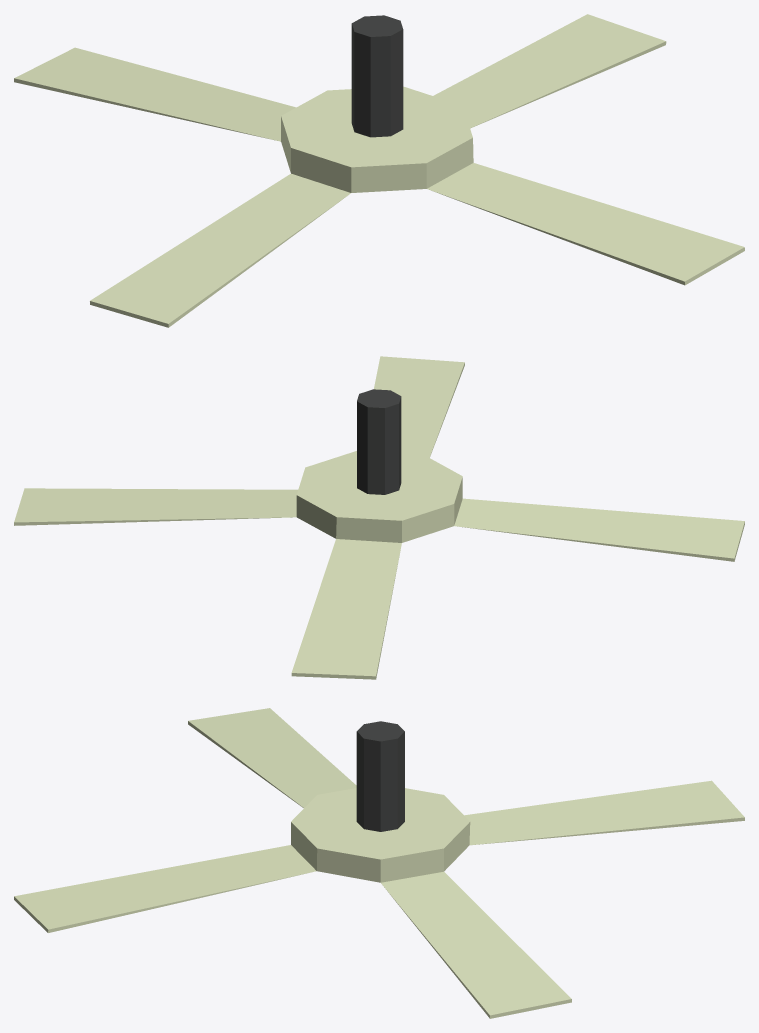
File: fan.fbx
3 renders of one model, top to bottom at view 1: azimuth 30°, elevation 25°; view 2: azimuth 150°, elevation 25°; view 3: azimuth 270°, elevation 25°, orthographic. The views are drawn at different scales.
Parts seen in each view (by area): view 1: Cube.002, Cube.003; view 2: Cube.002, Cube.003; view 3: Cube.002, Cube.003.
Boxes of the visible parts, x1,y1,x2,y2 form: Cube.002: [14, 14, 744, 327]; Cube.003: [351, 15, 403, 137]; Cube.002: [14, 356, 744, 679]; Cube.003: [357, 389, 401, 494]; Cube.002: [14, 708, 744, 1018]; Cube.003: [356, 721, 404, 831].
Bounding box in the file's own units: 10.37 × 2.1 × 10.42.
